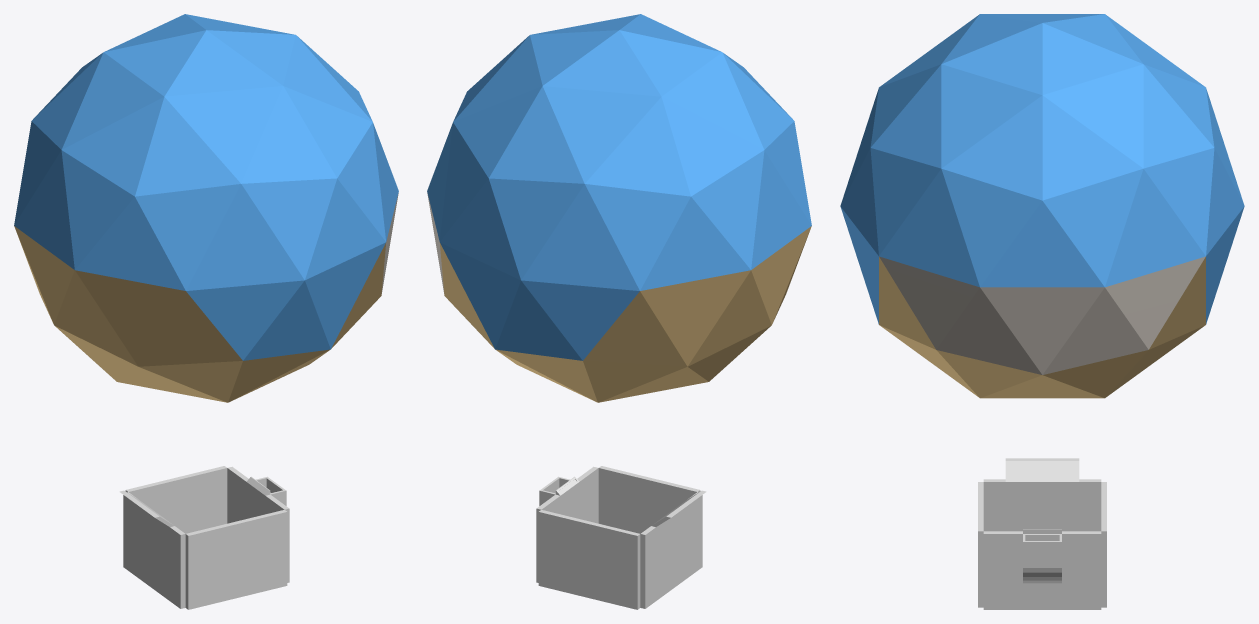
The model's file is GreyBoxBasket 1.fbx.
The picture shows the model from 3 angles, left to right: view 1: azimuth 30°, elevation 25°; view 2: azimuth 150°, elevation 25°; view 3: azimuth 270°, elevation 25°; orthographic projection. The views are drawn at different scales.
Visible parts, largest first — view 1: Icosphere, Cube; view 2: Icosphere, Cube; view 3: Icosphere, Cube.
Part boxes in pixels (x1,y1,x2,y2): Icosphere: (14, 14, 398, 402); Cube: (119, 466, 289, 609); Icosphere: (427, 14, 811, 402); Cube: (536, 466, 706, 609); Icosphere: (840, 14, 1244, 398); Cube: (978, 458, 1106, 609).
Size of the model in its own units: 655 by 1052 by 689.
